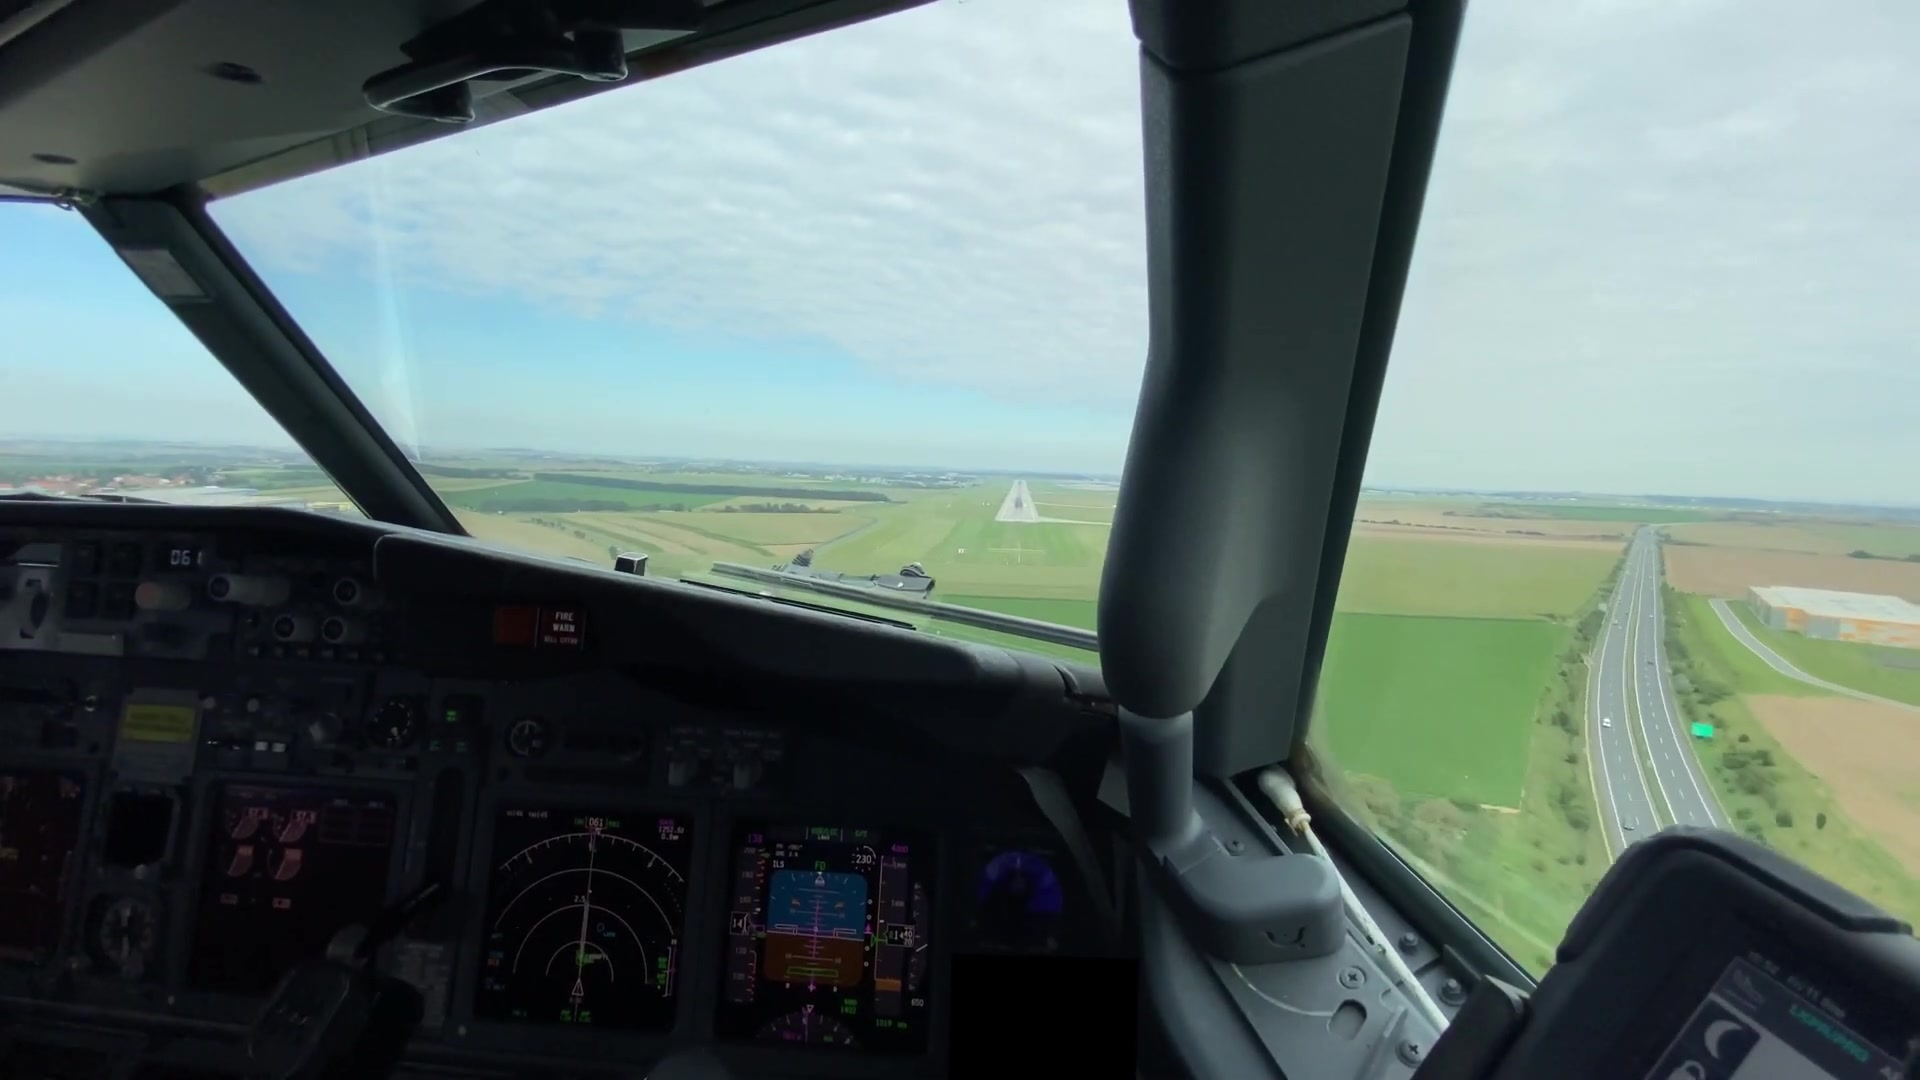runway: (994, 479, 1040, 525)
